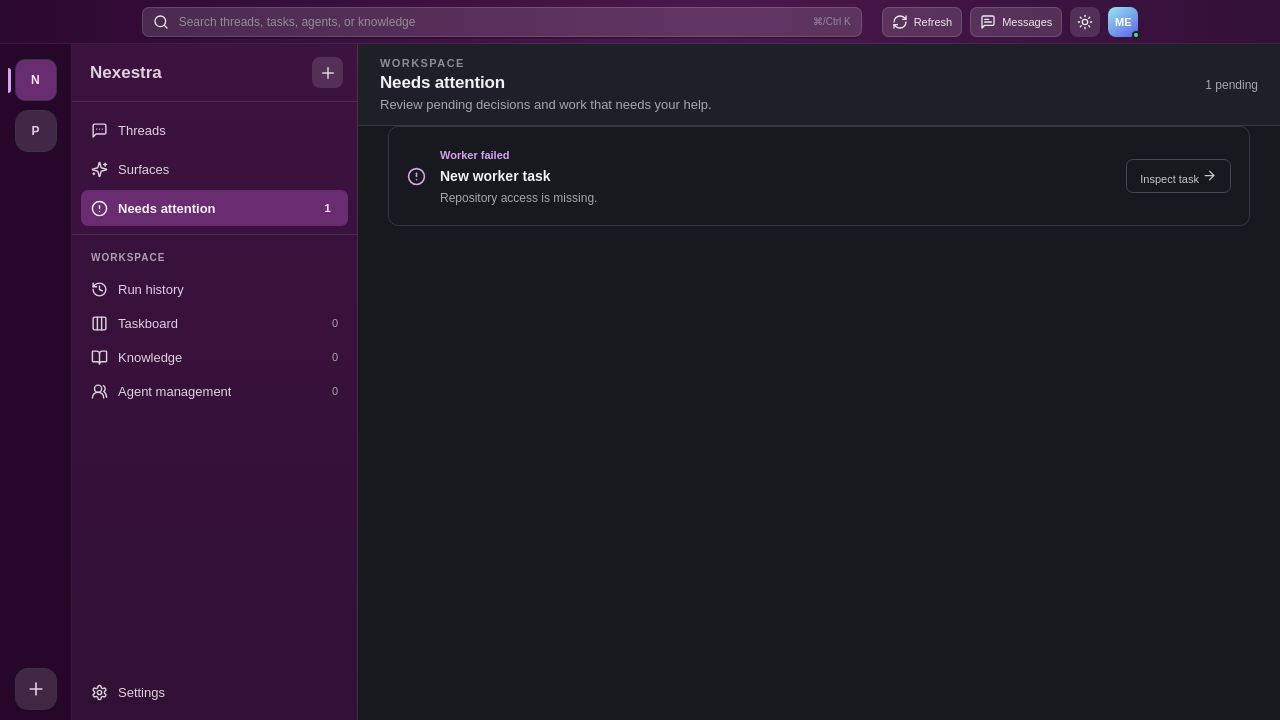
Test: Workspace attention supervision › loads an uncached attention task and guards workspace switching: false
The width and height of the screenshot is (1280, 720).
Check: the heading "Needs attention" is shown, box top-left (380, 73), bottom-right (505, 92)
Click the button with aria-label "Inspect task: New worker task" at x=1179, y=176, box top-left (1126, 159), bottom-right (1231, 193)
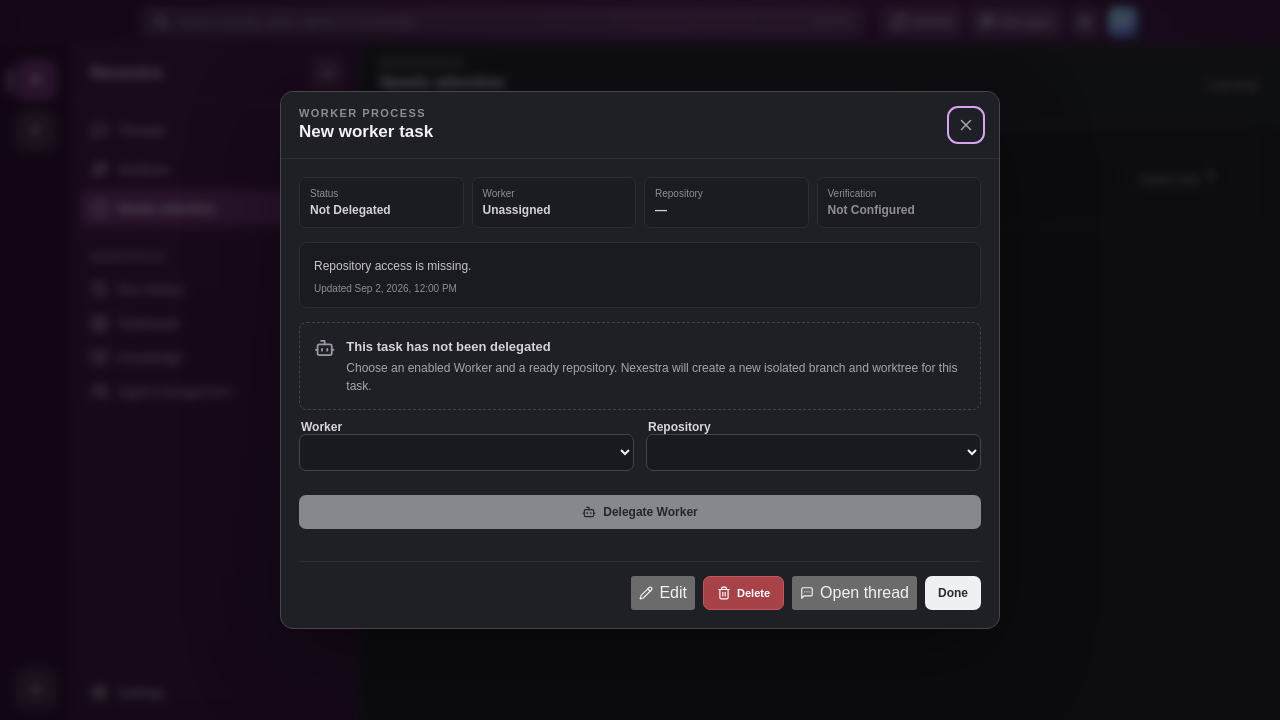
Check: the text "Repository access is missing." is shown, box top-left (314, 259), bottom-right (471, 273)
